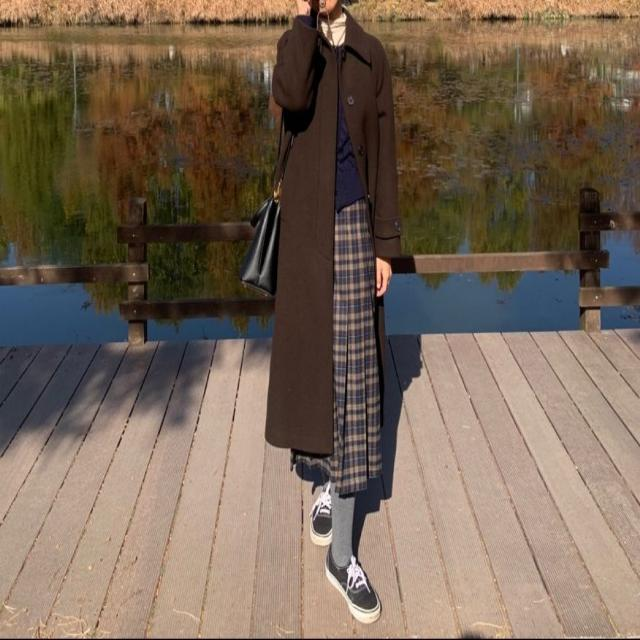coat: (265, 13, 405, 457)
skirt: (290, 194, 384, 498)
